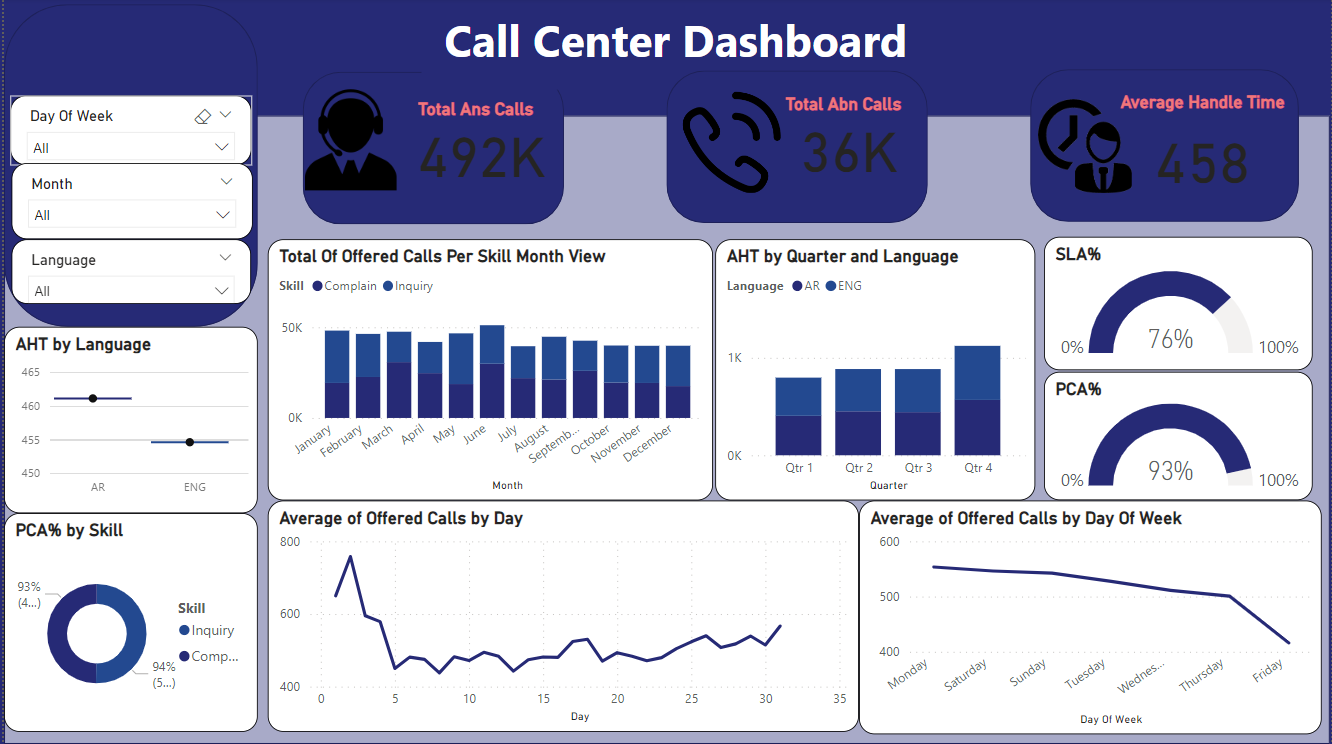

What the dashboard file says about the page in this screenshot:
{"tool":"powerbi","page":{"name":"Call Center","canvas":[1280,720],"ordinal":0},"visuals":[{"type":"shape","box":[0,113.4,1279.6,606.6],"z":0},{"type":"shape","box":[0,6,244.8,311.2],"z":1000},{"type":"shape","box":[989.7,69.2,259.3,147.1],"z":2000},{"type":"shape","box":[288,70.7,252.1,147.1],"z":3000},{"type":"shape","box":[31.4,6,177.3,88],"z":4000},{"type":"image","box":[35,6,172.5,90.5],"z":5000},{"type":"textbox","box":[402.5,5.7,490.7,82.5],"z":6000},{"type":"gauge","fields":{"Y":["Calls Data.SLA%"]},"box":[1003.4,230.4,259.3,129],"z":7000},{"type":"gauge","fields":{"Y":["Calls Data.PCA%"]},"box":[1003.4,360.6,259.3,124.2],"z":8000},{"type":"card","title":"Average Handle Time","fields":{"Values":["Calls Data.AHT"]},"box":[1072.4,90.5,168.8,106.1],"z":9000},{"type":"card","title":"Total Ans Calls","fields":{"Values":["Sum(Calls Data.Ans Calls)"]},"box":[394.1,96,133.9,82],"z":10000},{"type":"shape","box":[639.4,70.2,252.1,147.1],"z":11000},{"type":"card","title":"Total Abn Calls","fields":{"Values":["Sum(Calls Data.Aban Calls)"]},"box":[749.2,92.1,133.9,82],"z":12000},{"type":"image","box":[266.5,83.2,136.3,107.3],"z":13000},{"type":"image","box":[639.4,86.1,125.4,107.3],"z":14000},{"type":"image","box":[978.8,93.3,126.6,100.1],"z":15000},{"type":"donutChart","fields":{"Category":["Calls Data.Skill"],"Y":["Calls Data.PCA%"]},"box":[0,496.9,244.8,211.1],"z":16000},{"type":"columnChart","title":"Total Of Offered Calls Per Skill Month View","fields":{"Category":["Calender.Date.Variation.Date Hierarchy.Month"],"Y":["Sum(Calls Data.Offered Calls )"],"Series":["Calls Data.Skill"]},"box":[254.5,232.8,429.3,252.1],"z":17000},{"type":"lineChart","fields":{"Y":["Avg(Calls Data.Offered Calls )"],"Category":["Calender.Date.Variation.Date Hierarchy.Year","Calender.Date.Variation.Date Hierarchy.Quarter","Calender.Date.Variation.Date Hierarchy.Month","Calender.Date.Variation.Date Hierarchy.Day"]},"box":[254.5,484.8,570.5,223.1],"z":18000},{"type":"lineChart","fields":{"Y":["Avg(Calls Data.Offered Calls )"],"Category":["Calls Data.Day Of Week"]},"box":[824.9,484.8,446.2,225.5],"z":19000},{"type":"columnChart","fields":{"Category":["Calender.Date.Variation.Date Hierarchy.Quarter"],"Y":["Calls Data.AHT"],"Series":["Calls Data.Language"]},"box":[686.2,232.8,308.7,252.1],"z":20000},{"type":"BoxWhiskerChart1455240051538","fields":{"Groups":["Calls Data.Language"],"Values":["Calls Data.AHT"]},"box":[0,317.2,244.8,179.7],"z":21000},{"type":"slicer","fields":{"Values":["Calls Data.Day Of Week"]},"box":[6,94.1,232.8,67.5],"z":22000},{"type":"slicer","fields":{"Values":["Calender.Date.Variation.Date Hierarchy.Month"]},"box":[7.2,159.2,232.8,73.6],"z":23000},{"type":"slicer","fields":{"Values":["Calls Data.Language"]},"box":[7.2,232.8,231.6,62.7],"z":24000}]}

Visuals, with their boxes in screenshot pixels (x1, y1, x2, y2), scaled from the page's 1280x720 canvas onto the 1332x744 screenshot:
shape: left=0, top=117, right=1331, bottom=743
shape: left=0, top=6, right=255, bottom=328
shape: left=1030, top=72, right=1300, bottom=224
shape: left=300, top=73, right=562, bottom=225
shape: left=33, top=6, right=217, bottom=97
image: left=36, top=6, right=216, bottom=100
textbox: left=419, top=6, right=929, bottom=91
gauge - Calls Data.SLA%: left=1044, top=238, right=1314, bottom=371
gauge - Calls Data.PCA%: left=1044, top=373, right=1314, bottom=501
"Average Handle Time" card: left=1116, top=94, right=1292, bottom=203
"Total Ans Calls" card: left=410, top=99, right=549, bottom=184
shape: left=665, top=73, right=928, bottom=225
"Total Abn Calls" card: left=780, top=95, right=919, bottom=180
image: left=277, top=86, right=419, bottom=197
image: left=665, top=89, right=796, bottom=200
image: left=1019, top=96, right=1150, bottom=200
donutChart - Calls Data.Skill x Calls Data.PCA%: left=0, top=513, right=255, bottom=732
"Total Of Offered Calls Per Skill Month View" columnChart: left=265, top=241, right=712, bottom=501
lineChart - Avg(Calls Data.Offered Calls ) x Calender.Date.Variation.Date Hierarchy.Year: left=265, top=501, right=859, bottom=731
lineChart - Avg(Calls Data.Offered Calls ) x Calls Data.Day Of Week: left=858, top=501, right=1323, bottom=734
columnChart - Calender.Date.Variation.Date Hierarchy.Quarter x Calls Data.AHT: left=714, top=241, right=1035, bottom=501
BoxWhiskerChart1455240051538 - Calls Data.Language x Calls Data.AHT: left=0, top=328, right=255, bottom=513
slicer - Calls Data.Day Of Week: left=6, top=97, right=249, bottom=167
slicer - Calender.Date.Variation.Date Hierarchy.Month: left=7, top=165, right=250, bottom=241
slicer - Calls Data.Language: left=7, top=241, right=249, bottom=305
